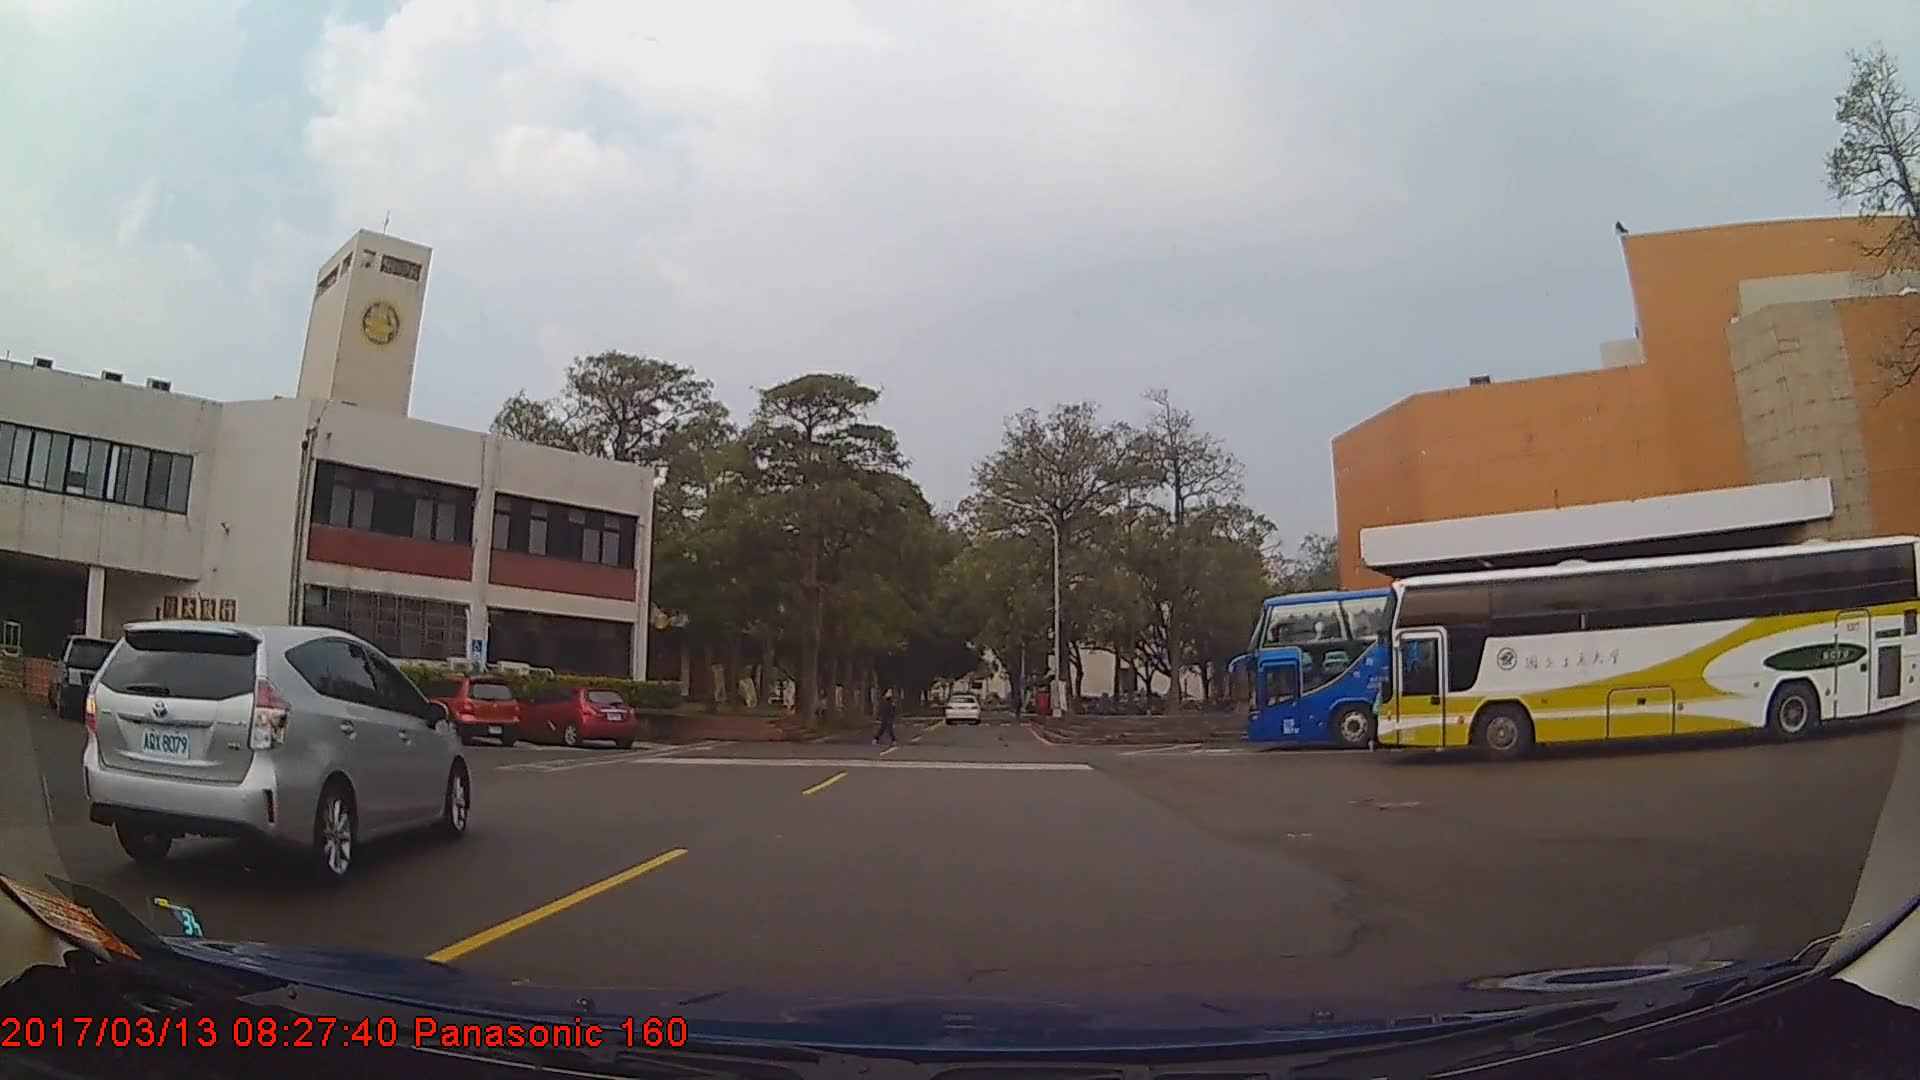pedestrian: (877, 687, 898, 747)
vehicle: (1376, 533, 1920, 764), (76, 618, 469, 885), (1244, 583, 1783, 754), (513, 683, 639, 750), (47, 634, 132, 721), (420, 675, 519, 746), (944, 693, 981, 726)
